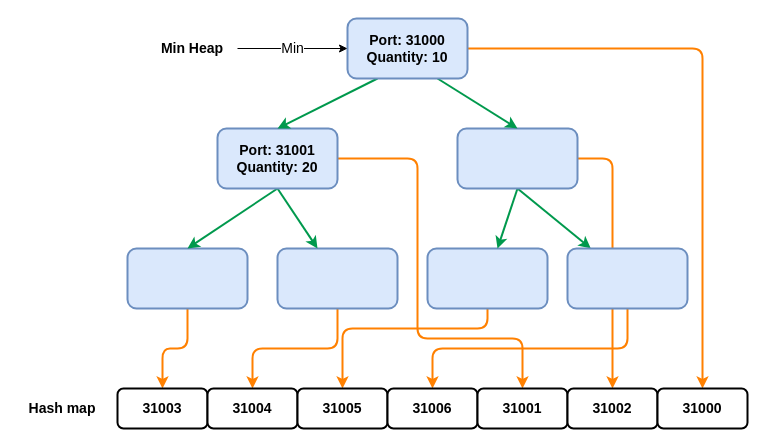
The diagram is 765 pixels wide and 446 high, and some of its shapes have lost their labels. Here are the shapes that lost their labels. From the top down, the centre of each, then its label:
At point 517,158: "Port: 31002 Quantity: 15".
At point 187,278: "Port: 31003 Quantity: 25".
At point 337,278: "Port: 31004 Quantity: 50".
At point 487,278: "Port: 31005 Quantity: 30".
At point 627,278: "Port: 31006 Quantity: 40".
